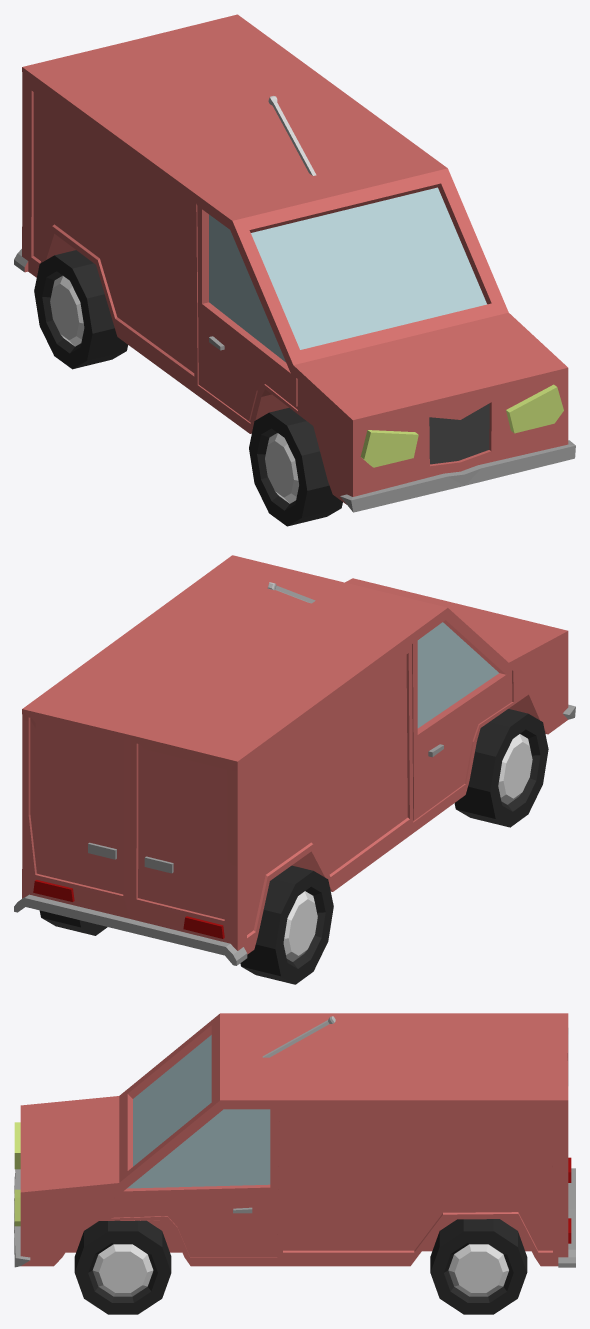
Rendered from Car2.fbx.
3 renders of one model, top to bottom at view 1: azimuth 30°, elevation 25°; view 2: azimuth 150°, elevation 25°; view 3: azimuth 270°, elevation 25°, orthographic. The views are drawn at different scales.
Parts seen in each view (by area): view 1: Cube, Cylinder.002, Cylinder.003; view 2: Cube, Cylinder.003, Cylinder.002, Cylinder.001; view 3: Cube, Cylinder.001, Cylinder, Cube.001.
Boxes of the visible parts, <box> form: Cube: <box>14,14,575,512</box>; Cylinder.002: <box>34,250,127,369</box>; Cylinder.003: <box>249,408,342,526</box>; Cube: <box>14,555,575,965</box>; Cylinder.003: <box>454,709,548,827</box>; Cylinder.002: <box>240,865,333,984</box>; Cylinder.001: <box>39,910,107,935</box>; Cube: <box>14,1013,575,1267</box>; Cylinder.001: <box>430,1219,527,1314</box>; Cylinder: <box>74,1220,171,1314</box>; Cube.001: <box>262,1016,335,1057</box>.
Bounding box in the file's own units: 89.21 × 107 × 219.
